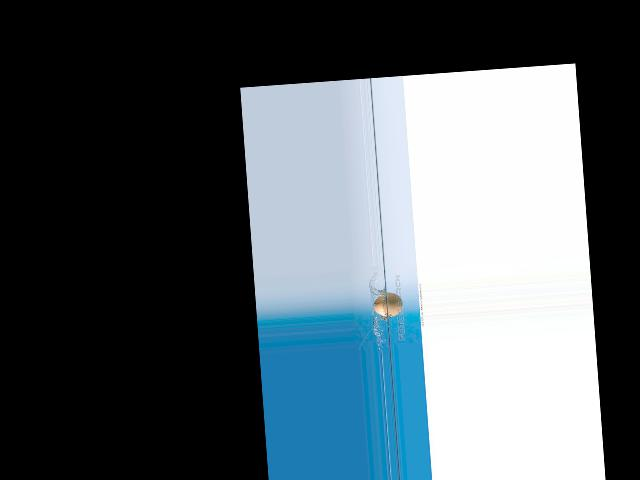egg: (372, 291, 403, 317)
